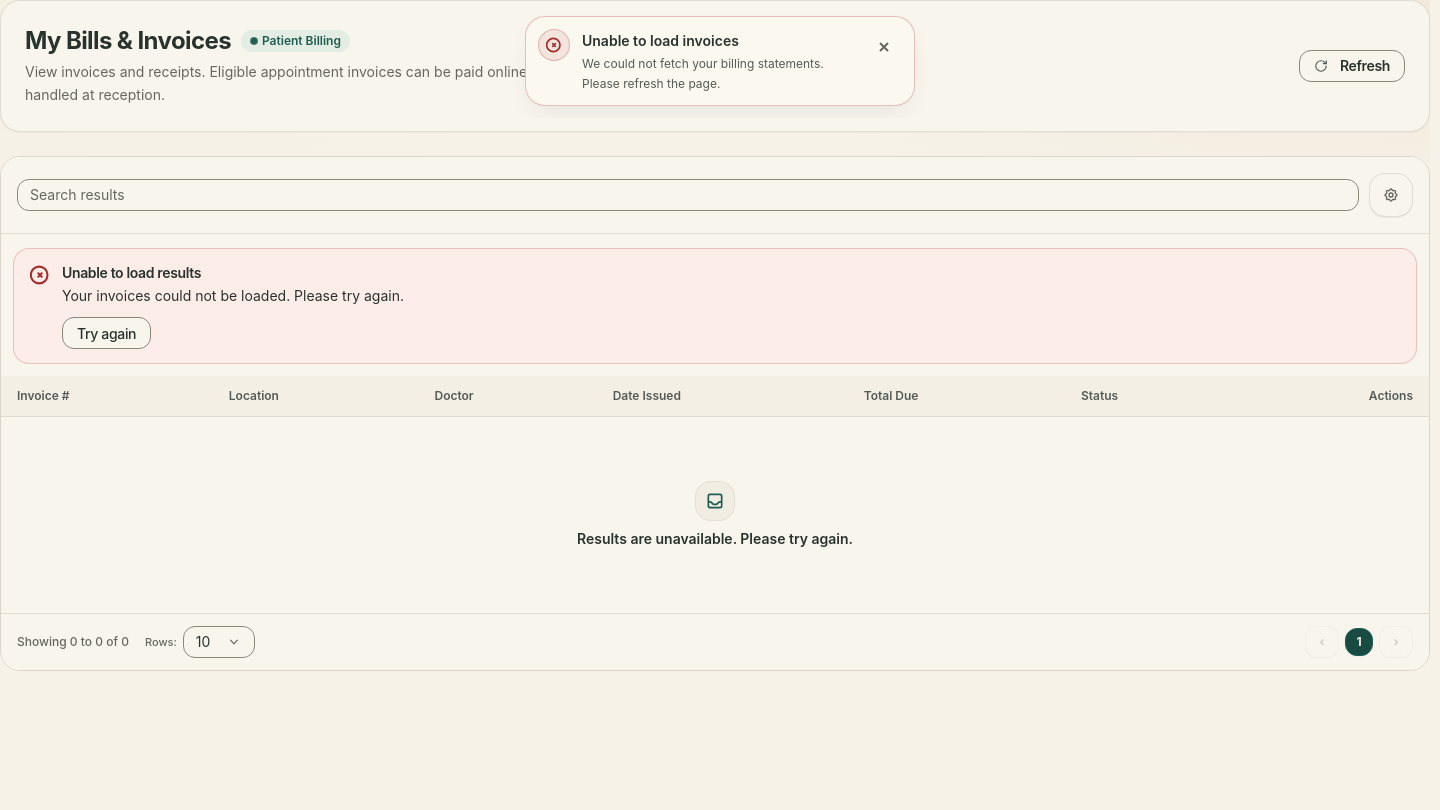
Test: retries an invoice read without starting a payment or treating failure as empty
Expected: the text "Your invoices could not be loaded. Please try again." is shown, [62,286,404,304]
Click the button "Try again" at (107, 333), box [62,317,151,349]
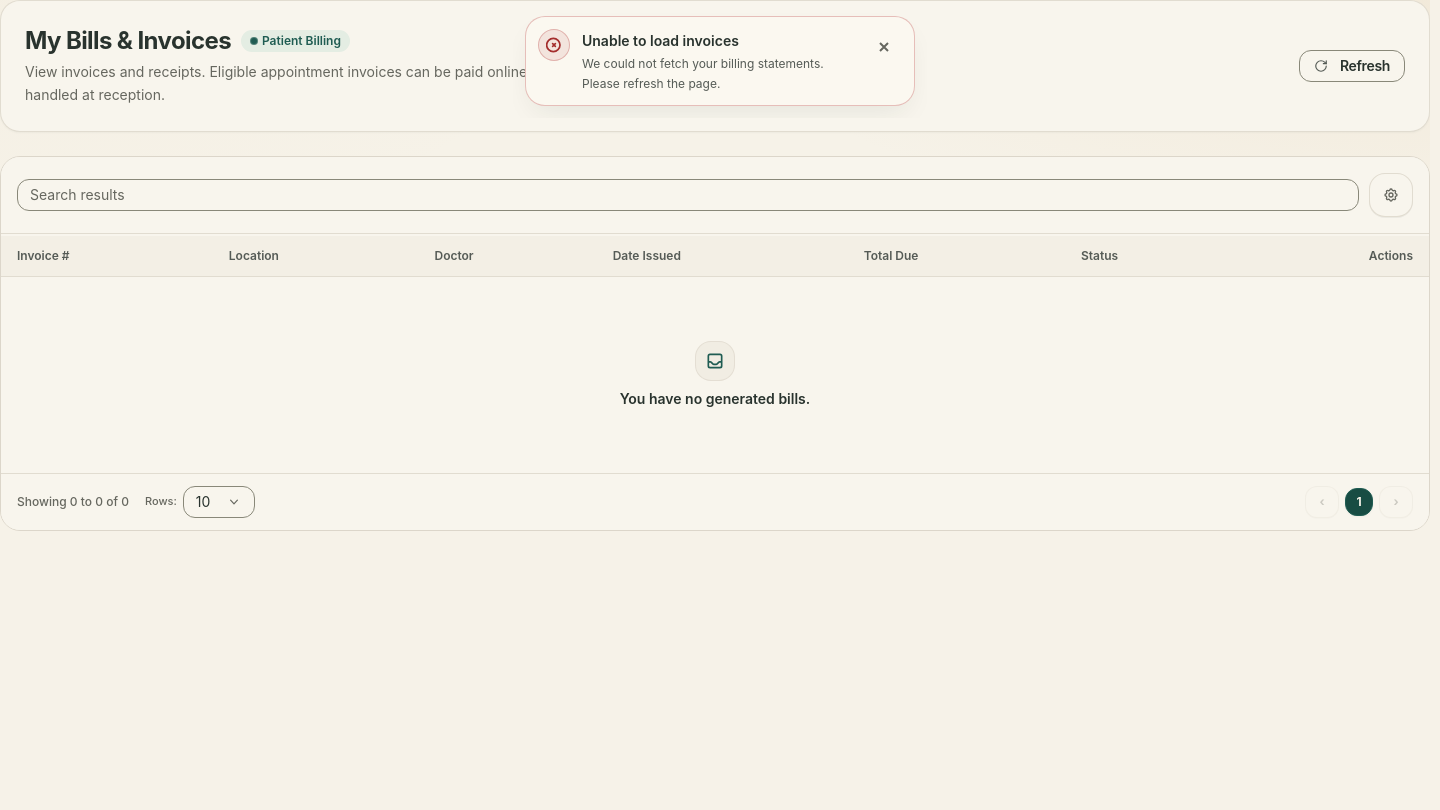
Expected: the text "Your invoices could not be loaded. Please try again." is gone
